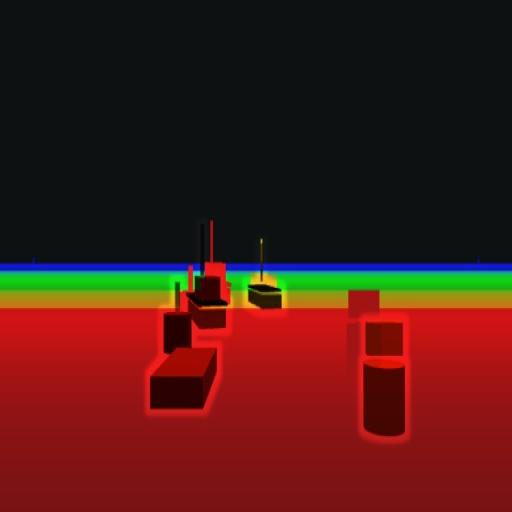vessel: (186, 235, 226, 334), (245, 242, 284, 310)
